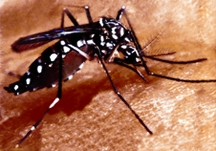dengue_mosquito: (3, 4, 195, 133)
